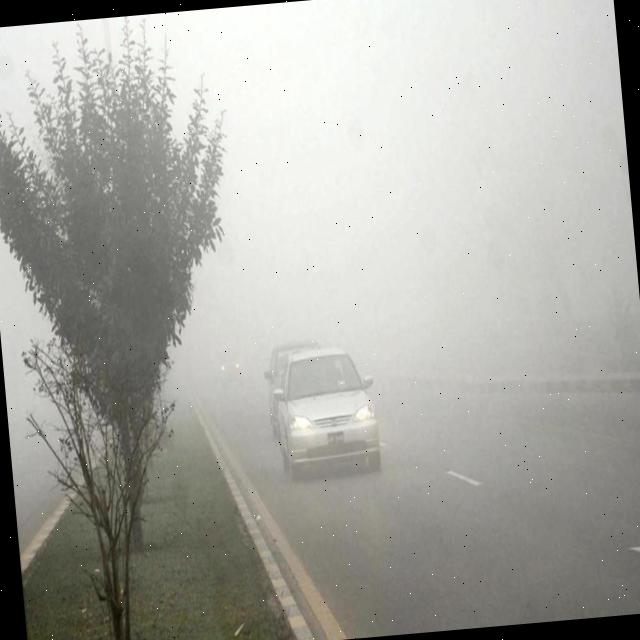car: (271, 342, 384, 480), (260, 336, 329, 436), (214, 346, 244, 381)
